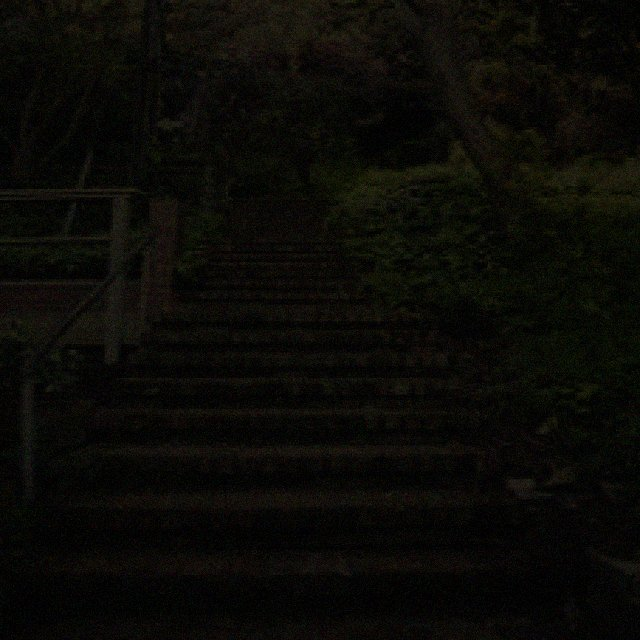stair: (19, 207, 559, 610)
